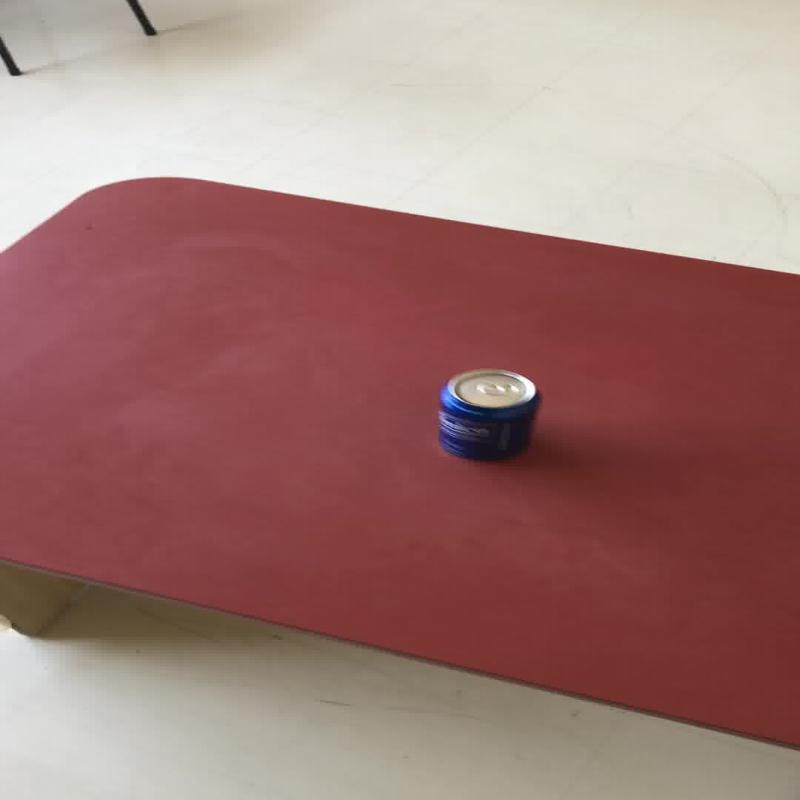tonic: (435, 367, 538, 461)
